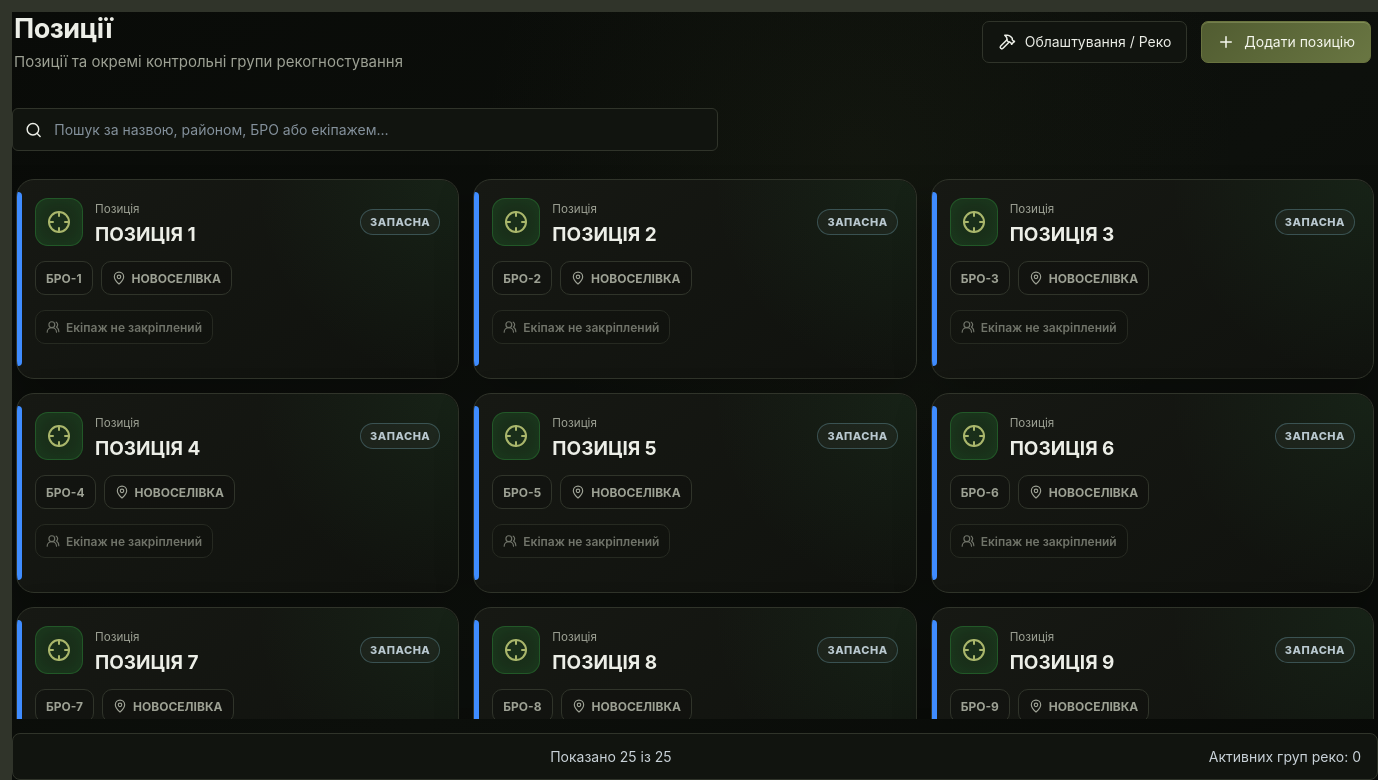
Test: Картка позиції › показує по 20 карток, підвантажує наступні та шукає серед ще не показаних
The width and height of the screenshot is (1378, 780).
(page scrolled)
Expected: the text "ПОЗИЦІЯ 25" is not shown
Expected: the text "Показано 25 із 25" is shown, left=550, top=748, right=672, bottom=765
Type "ПОЗИЦІЯ 25" into the field with placeholder "Пошук за назвою, районом, БРО або екіпажем…" at (379, 130), box left=52, top=120, right=705, bottom=139
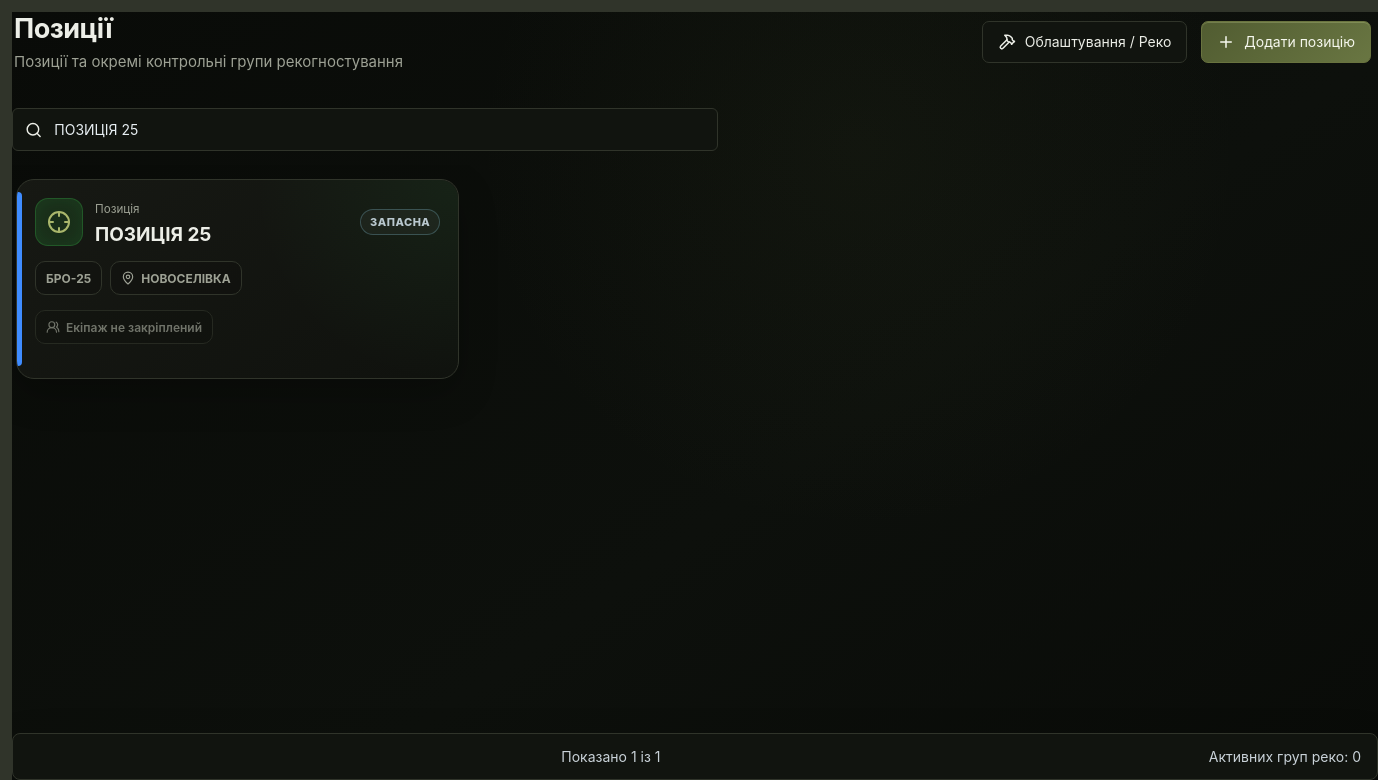
Now the heading "ПОЗИЦІЯ 25" is shown, box left=95, top=222, right=211, bottom=246
Now the text "Показано 1 із 1" is shown, box left=561, top=748, right=660, bottom=765
